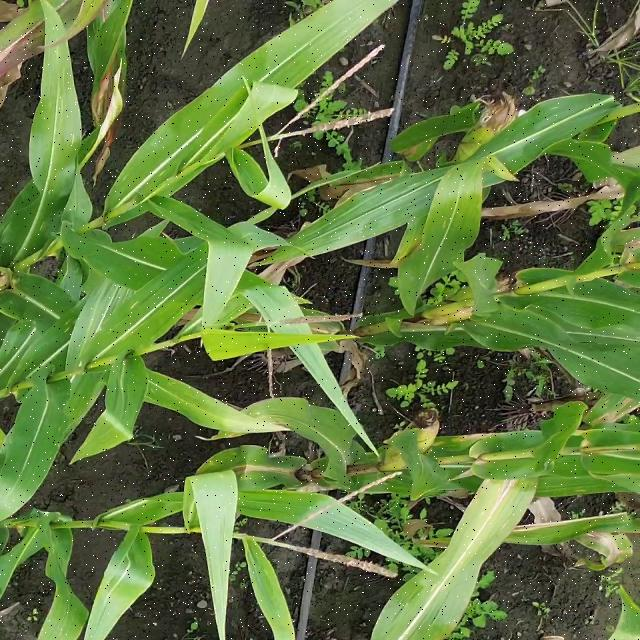gray-leaf-spot: (15, 42, 85, 250)
southern-leaf-blight: (441, 435, 596, 494), (6, 283, 98, 367), (145, 374, 254, 428)
